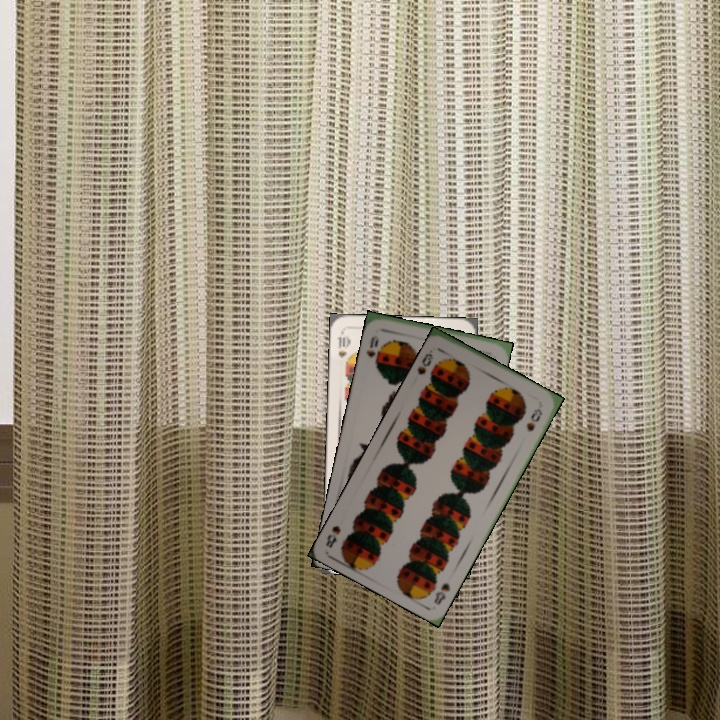S10: (333, 333, 352, 360)
S8: (429, 578, 453, 607), (413, 349, 436, 377)
SO: (362, 331, 381, 360)
